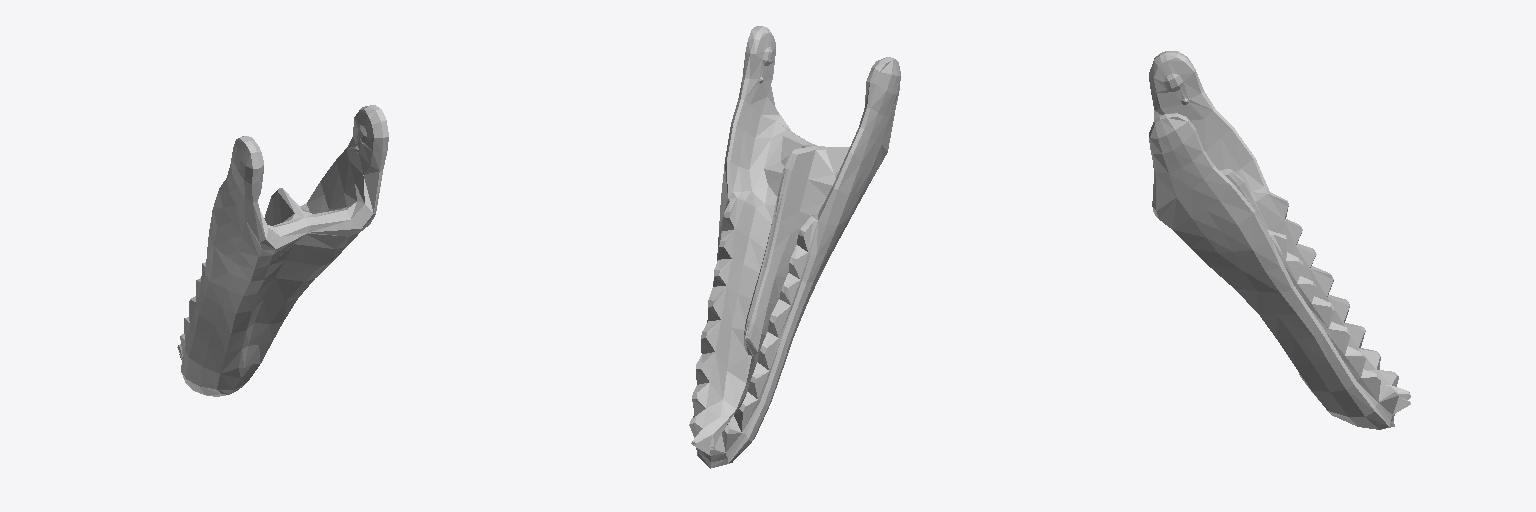
File: Mandibula.obj
The picture shows the model from 3 angles: view 1: azimuth 30°, elevation 25°; view 2: azimuth 150°, elevation 25°; view 3: azimuth 270°, elevation 25°; orthographic projection.
Visible parts, largest first — view 1: polySurface9 polySurface8 polySurface4 Bary_Mesh; view 2: polySurface9 polySurface8 polySurface4 Bary_Mesh; view 3: polySurface9 polySurface8 polySurface4 Bary_Mesh.
Boxes of the visible parts, x1=… form: polySurface9 polySurface8 polySurface4 Bary_Mesh: x1=177, y1=105, x2=388, y2=396; polySurface9 polySurface8 polySurface4 Bary_Mesh: x1=689, y1=26, x2=900, y2=468; polySurface9 polySurface8 polySurface4 Bary_Mesh: x1=1149, y1=51, x2=1410, y2=429.
Bounding box in the file's own units: 0.855 × 1.96 × 1.35.